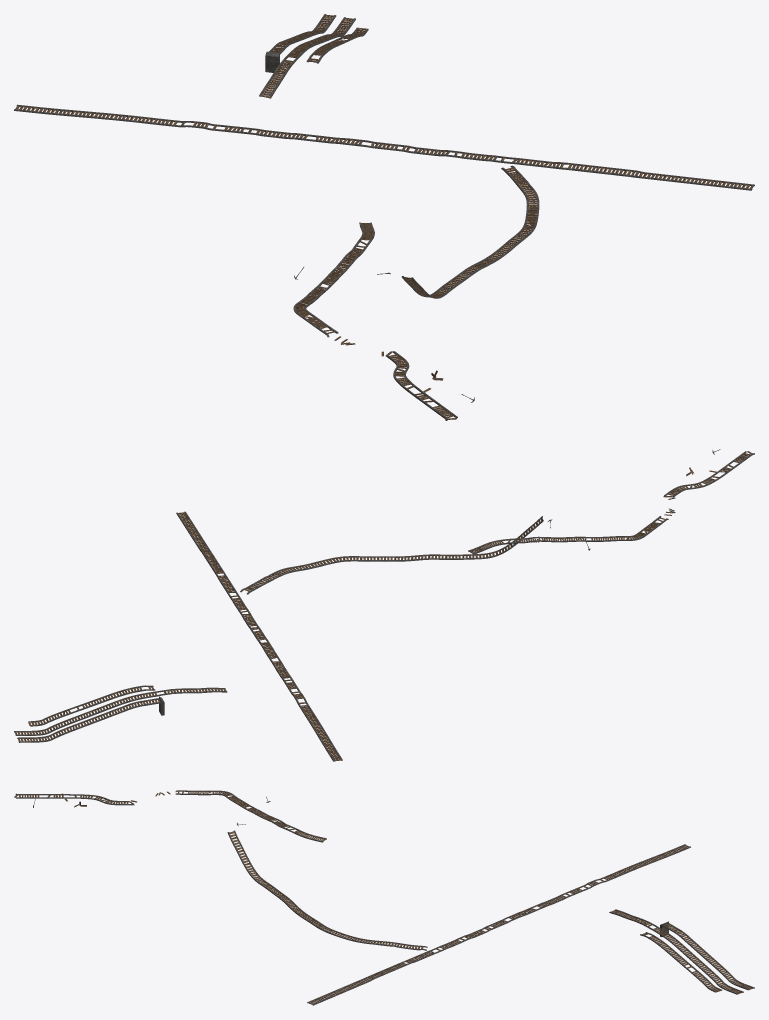
Rendered from JAM_rail.fbx.
3 views of the same model, one above another, from view 1: azimuth 30°, elevation 25°; view 2: azimuth 150°, elevation 25°; view 3: azimuth 270°, elevation 25° (orthographic). The views are drawn at different scales.
Parts seen in each view (by area): view 1: ENV_Rail; view 2: ENV_Rail; view 3: ENV_Rail.
Part boxes in pixels (left/top/right/bottom): ENV_Rail: left=14, top=14, right=754, bottom=420; ENV_Rail: left=14, top=449, right=754, bottom=761; ENV_Rail: left=14, top=790, right=754, bottom=1005.
Size of the model in its own units: 80.27 by 13.9 by 140.
